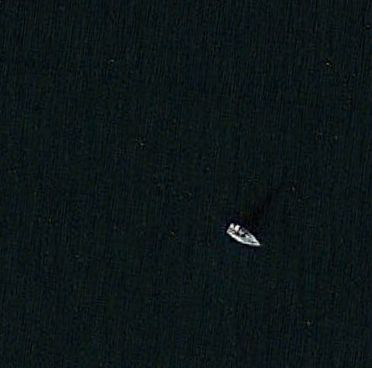boat: (225, 223, 263, 249)
